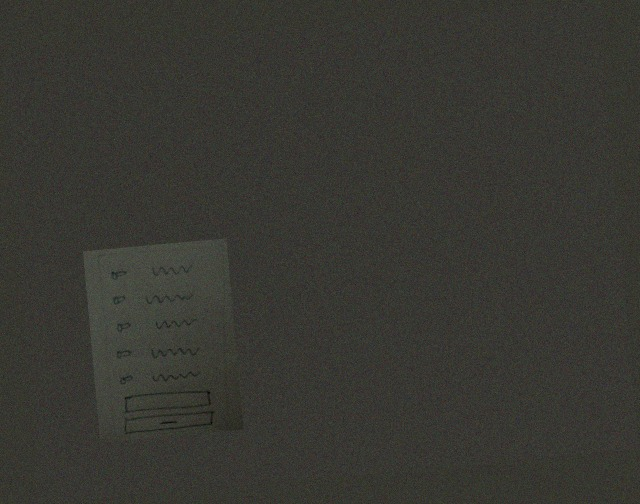button: (122, 408, 217, 437)
switch: (114, 372, 137, 388), (114, 345, 134, 362), (108, 268, 132, 282), (113, 320, 133, 334), (111, 292, 129, 307)
text: (148, 342, 202, 364), (143, 288, 197, 307), (146, 260, 196, 280), (149, 368, 202, 386), (152, 314, 200, 332)
text_input: (120, 387, 214, 415)
